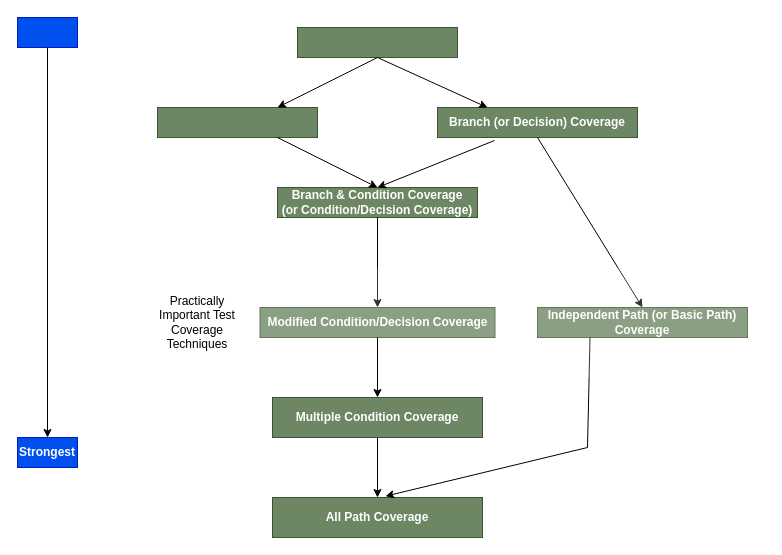
Some shapes in this 782 by 555 pixel diagram are drawn without their labels. Here are the shapes that lost their labels. From the top down, the centre of each, then its label:
point 47,32: Weakest
point 377,42: Statement Coverage
point 237,122: Condition Coverage
